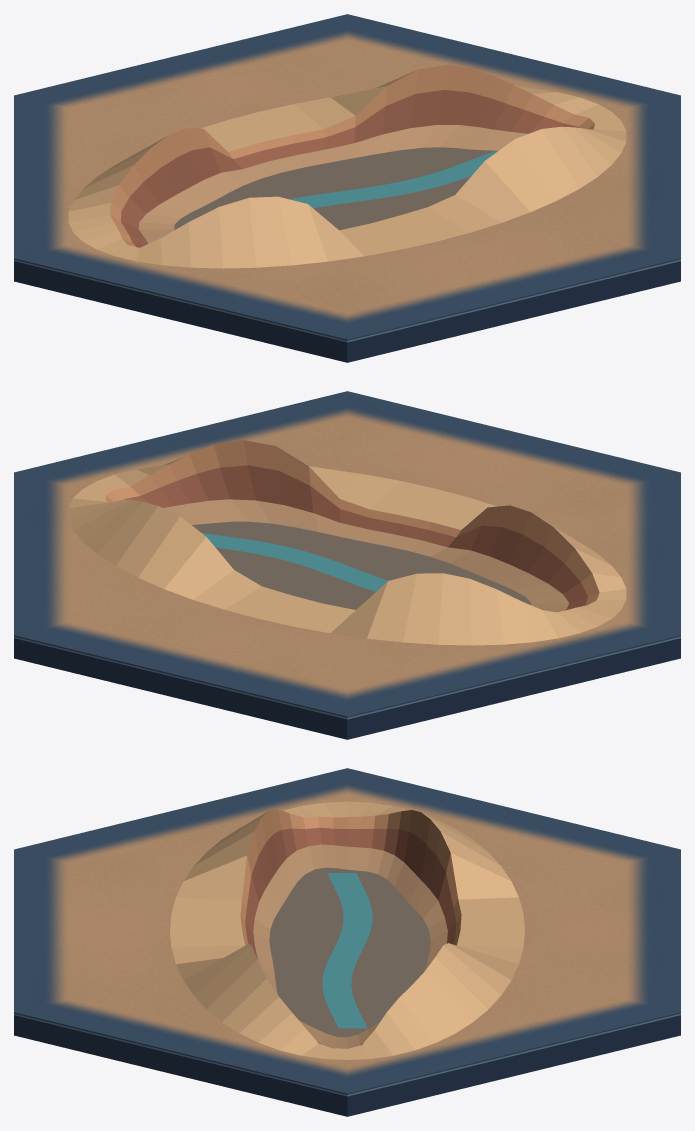
Rendered from campus_tile_canyon_v01.glb.
The picture shows the model from 3 angles, top to bottom: view 1: azimuth 30°, elevation 25°; view 2: azimuth 150°, elevation 25°; view 3: azimuth 270°, elevation 25°; orthographic projection.
Visible parts, largest first — view 1: campus_tile_canyon; view 2: campus_tile_canyon; view 3: campus_tile_canyon.
Boxes of the visible parts, <box> form: campus_tile_canyon: <box>14,14,680,362</box>; campus_tile_canyon: <box>14,391,680,739</box>; campus_tile_canyon: <box>14,768,680,1116</box>.
Bounding box in the file's own units: 36 × 3.51 × 31.18.
1 material, 1 textured.
